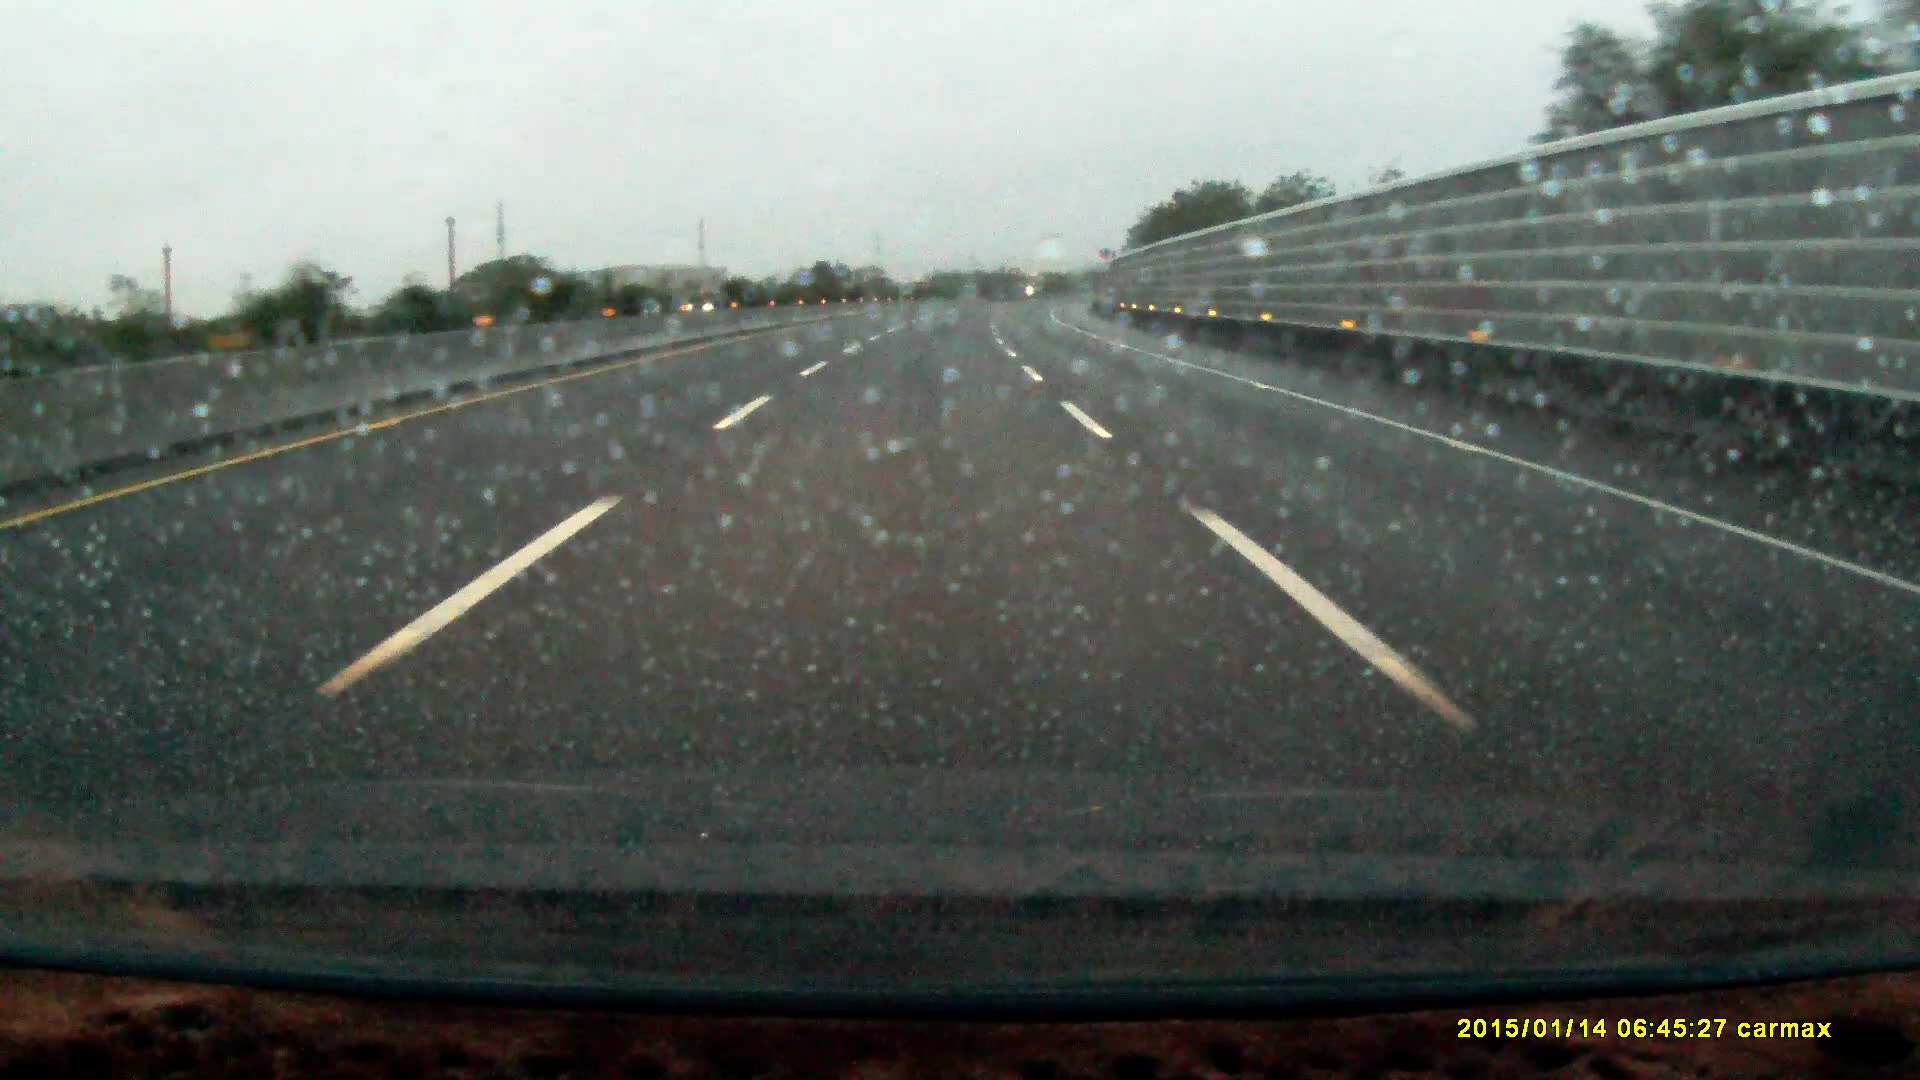vehicle: (669, 287, 729, 311)
